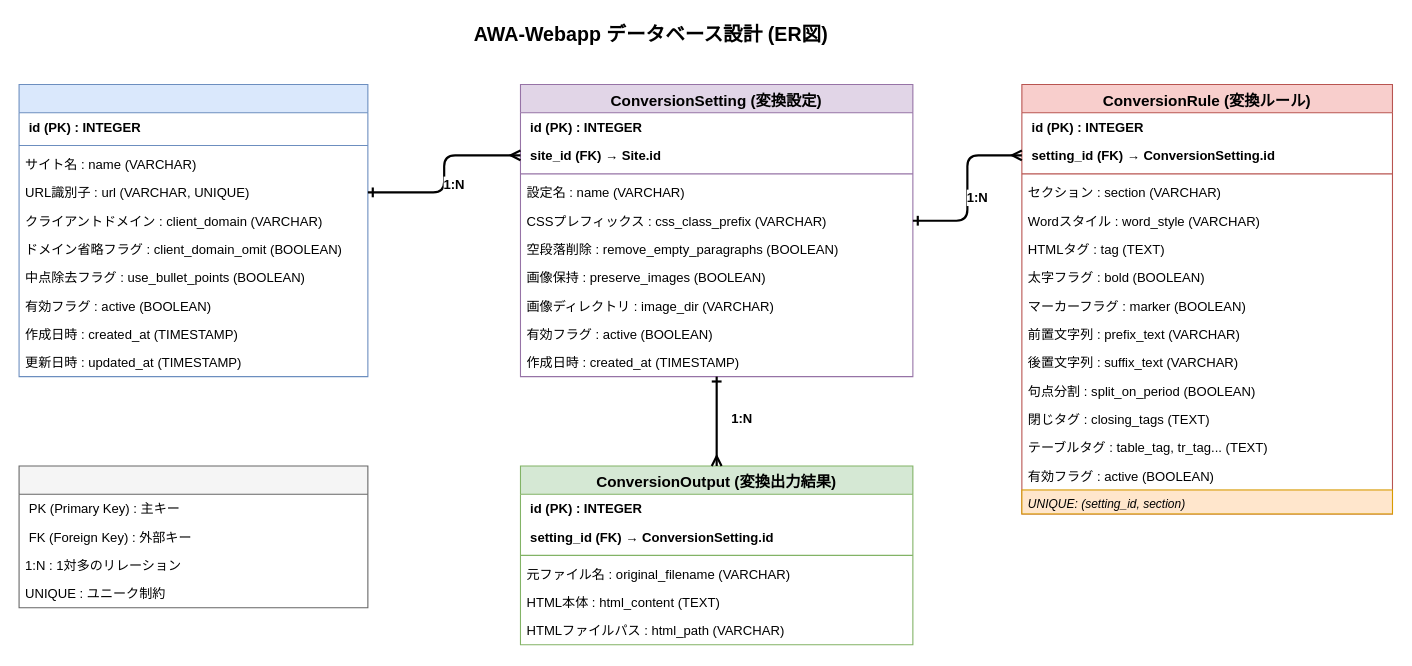
The diagram is 1412 pixels wide and 666 high, and some of its shapes have lost their labels. Each missing label, with the box of its shape:
Site (サイト): (18, 83, 368, 377)
凡例: (18, 465, 368, 608)
